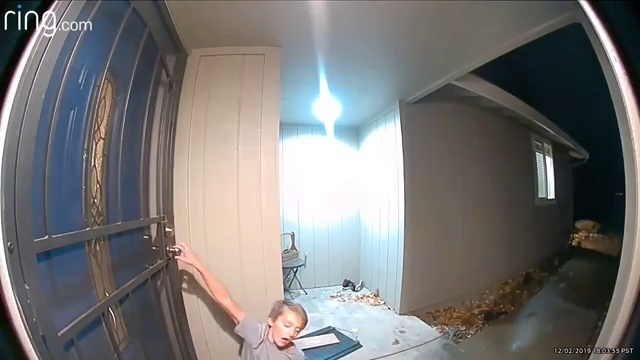face: (270, 312, 303, 348)
